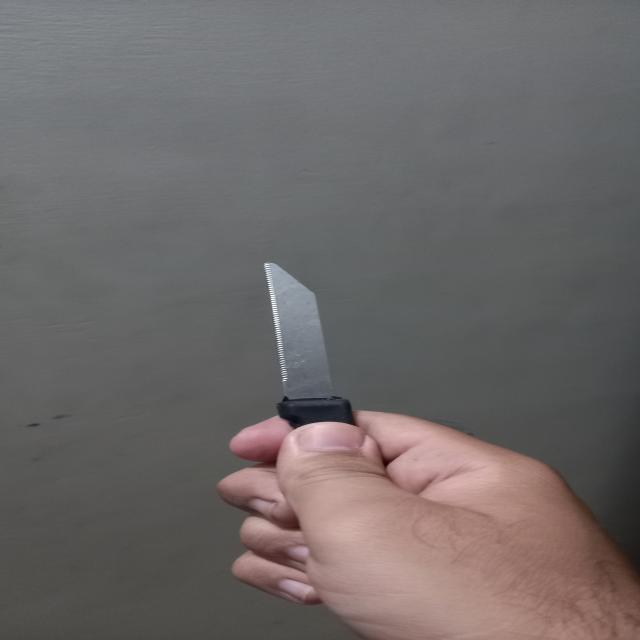weapon: (242, 252, 377, 510)
